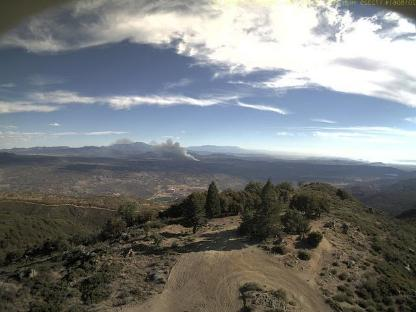smoke: (134, 137, 202, 161)
